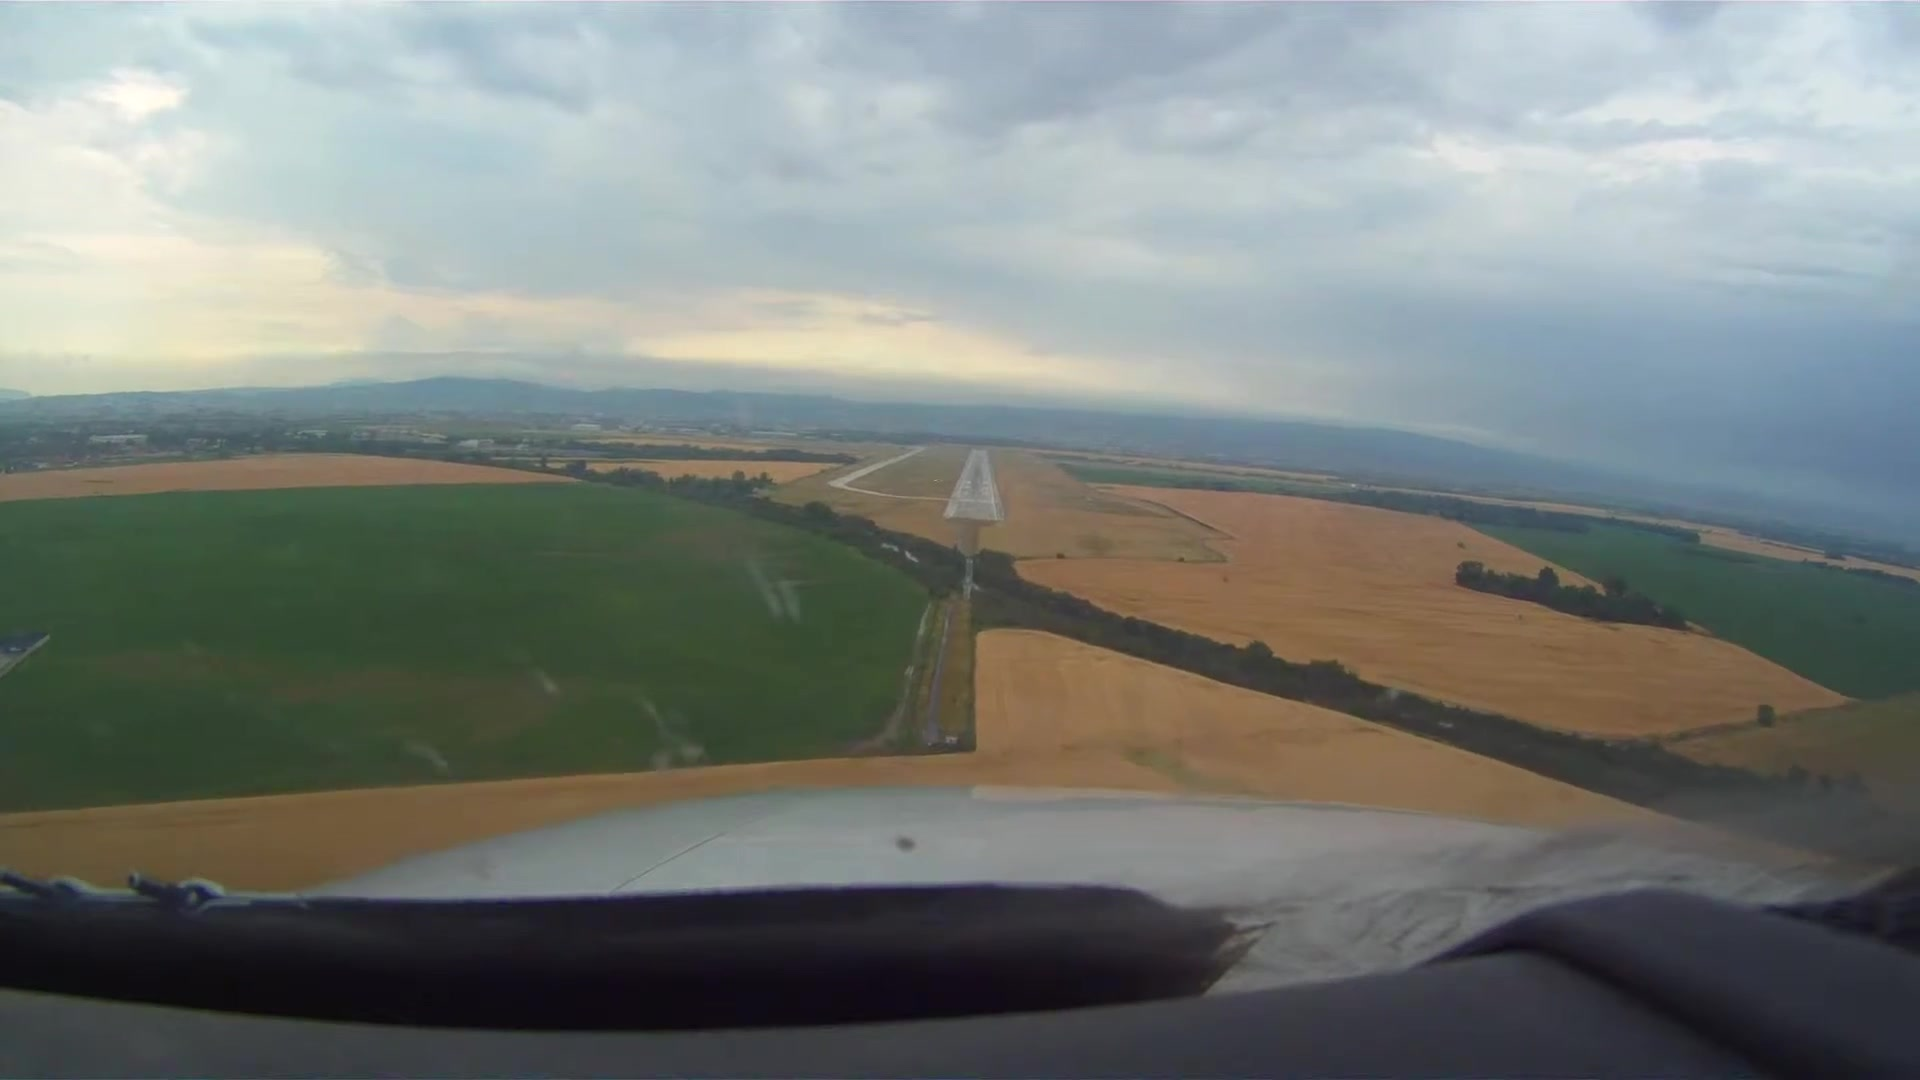runway: (945, 448, 1004, 521)
